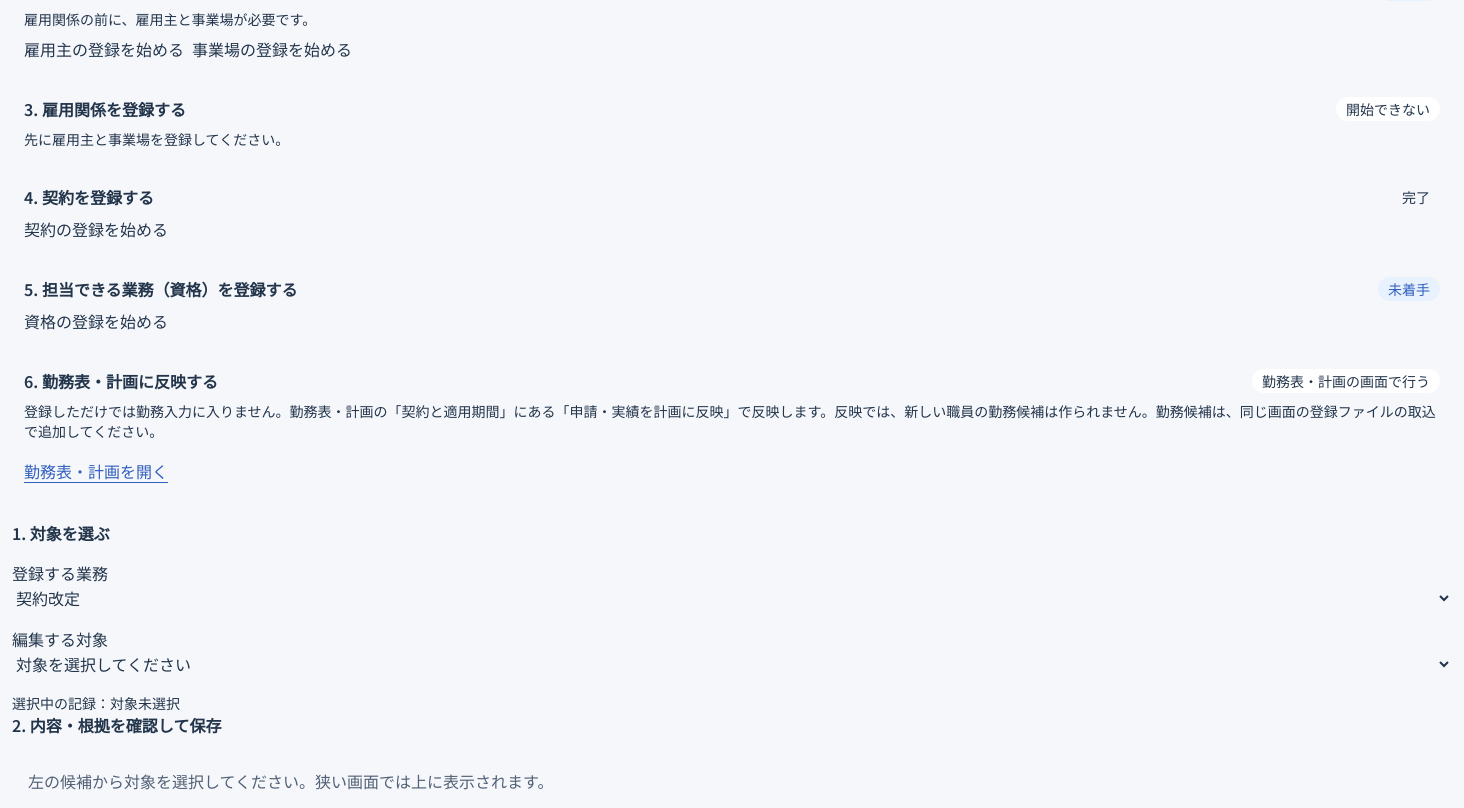
Test case: deep-linked person is the initial contract target and other staff records are hidden
(page scrolled)
Expected: the dropdown labelled "登録する業務" shows "契約改定", [12, 585, 1452, 611]
Select "新規登録" in the dropdown labelled "編集する対象": (732, 664) [12, 651, 1452, 677]
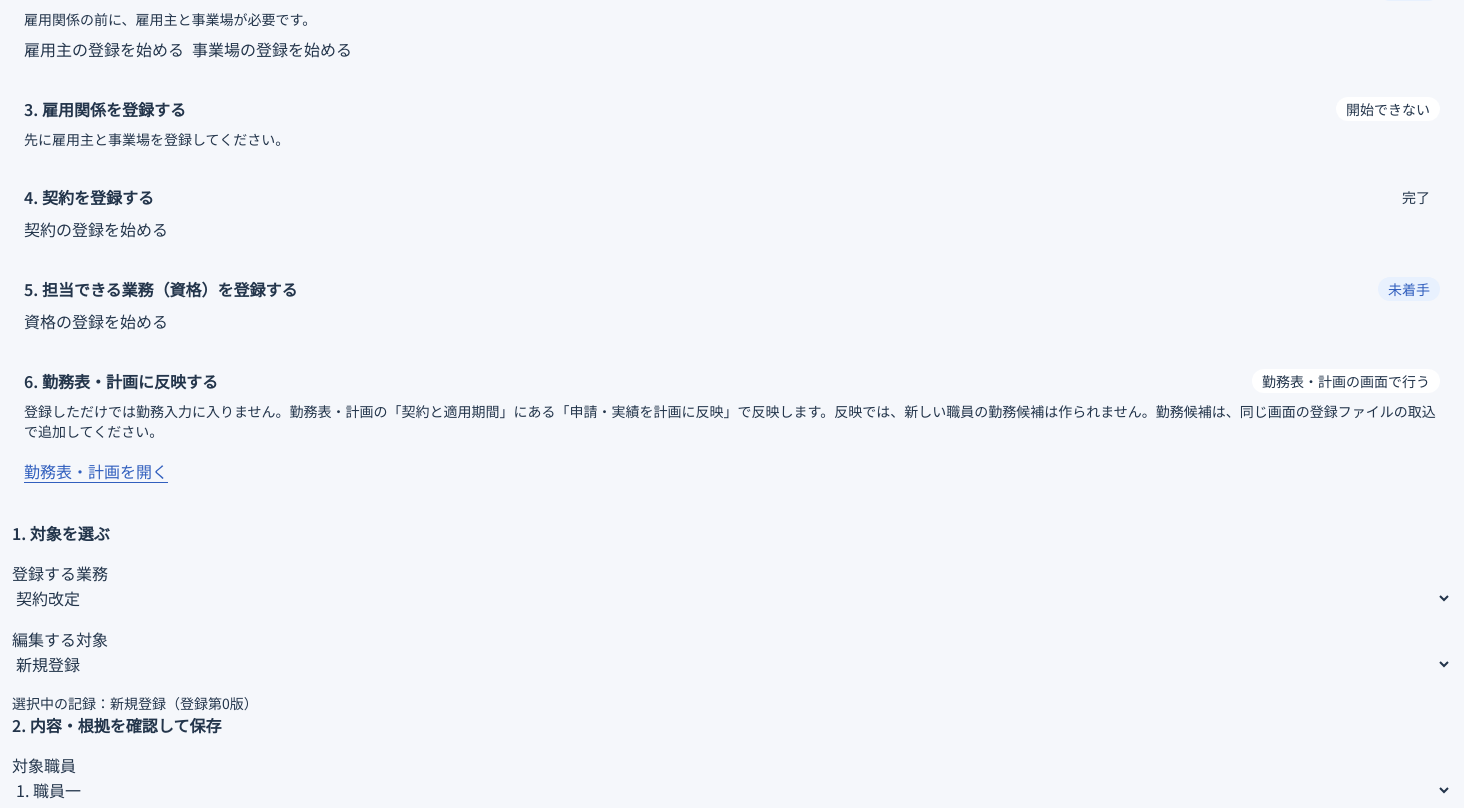
Expected: the dropdown labelled "対象職員" shows "1. 職員一", [12, 777, 1452, 803]
